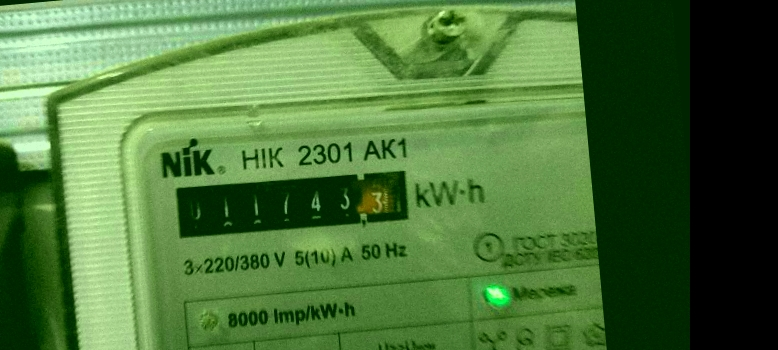0: (186, 193, 203, 222)
1: (247, 188, 262, 217), (218, 191, 231, 219)
3: (336, 183, 352, 211), (368, 189, 384, 215)
4: (306, 185, 323, 214)
7: (276, 185, 293, 214)
screen: (163, 155, 421, 251)
